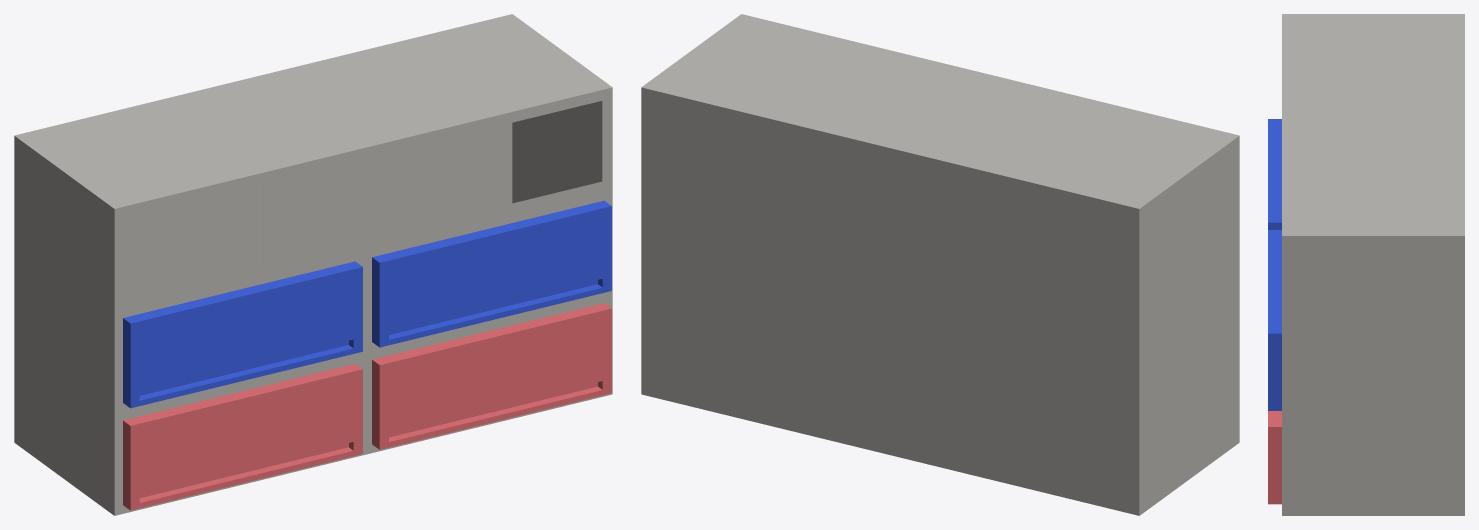
The model's file is Dresser.fbx.
3 views of the same model, side by side, from view 1: azimuth 30°, elevation 25°; view 2: azimuth 150°, elevation 25°; view 3: azimuth 270°, elevation 25° (orthographic). The views are drawn at different scales.
Visible parts, largest first — view 1: Shelf; view 2: Shelf; view 3: Shelf.
Part boxes in pixels (x1=…): Shelf: x1=14, y1=14, x2=612, y2=515; Shelf: x1=641, y1=14, x2=1239, y2=515; Shelf: x1=1268, y1=14, x2=1464, y2=515.
Size of the model in its own units: 501 by 295 by 188.
